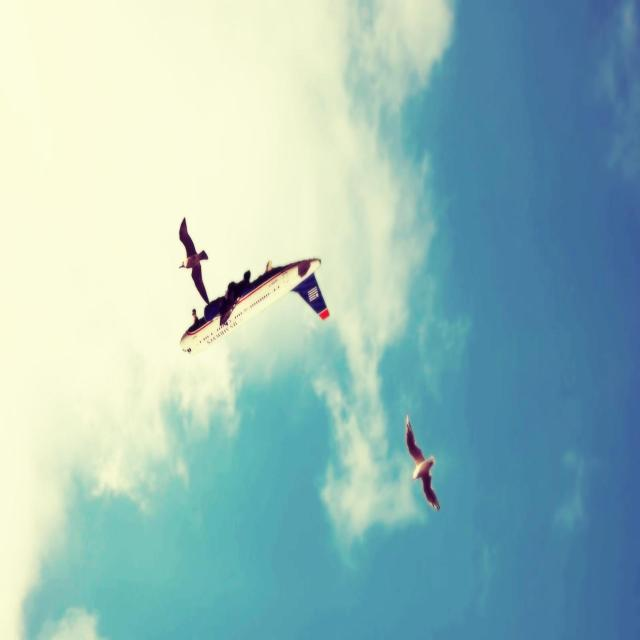airplane: (180, 256, 330, 354)
